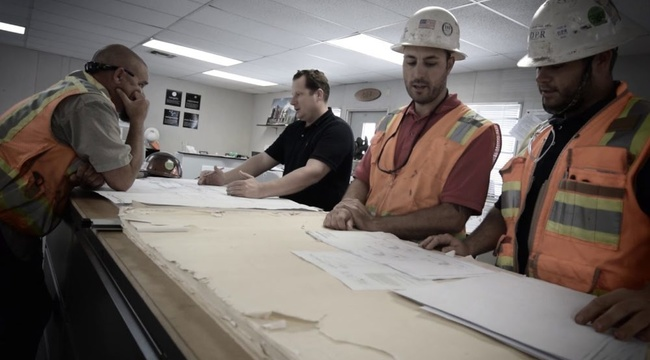hard hat: (516, 1, 641, 70), (393, 5, 468, 61), (137, 150, 184, 179)
high-vis: (501, 86, 650, 292), (1, 71, 120, 229), (369, 102, 499, 241)
